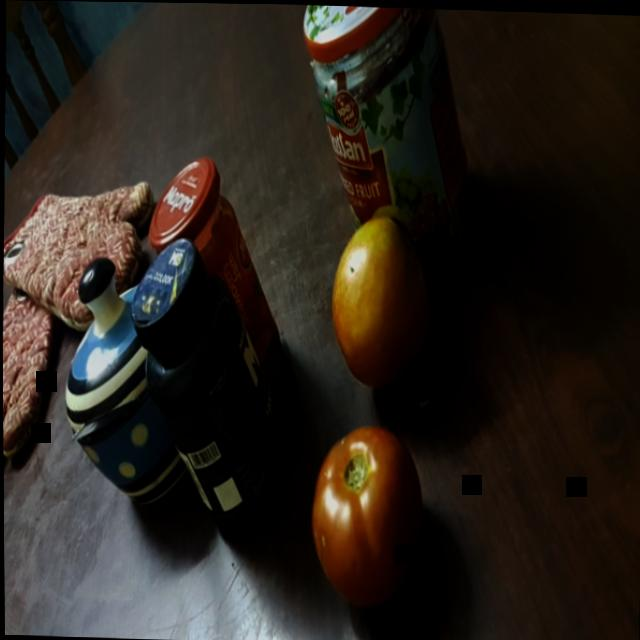tomato: (304, 412, 430, 607), (320, 210, 447, 393)
